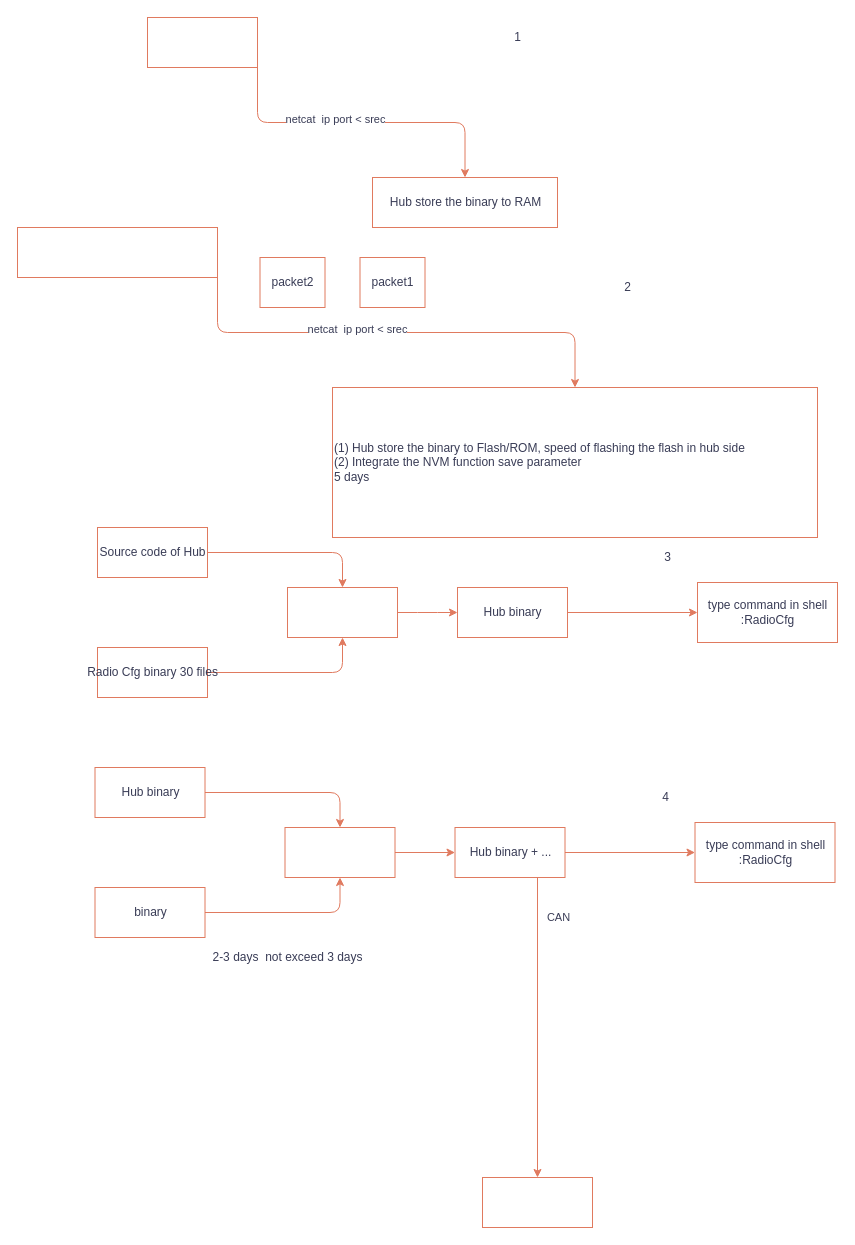
Some shapes in this 855 by 1245 pixel diagram are drawn without their labels. The box of each missing label's shape, as (x1, y1, x2, y2) in pixels:
Anchor: (482, 1176, 592, 1228)
Anchor Binary: (146, 16, 258, 68)
IAR Building: (286, 586, 398, 638)
Rasp pi to slow down the speed to file SPI_demux: (16, 226, 218, 278)
Script: (284, 826, 395, 878)
